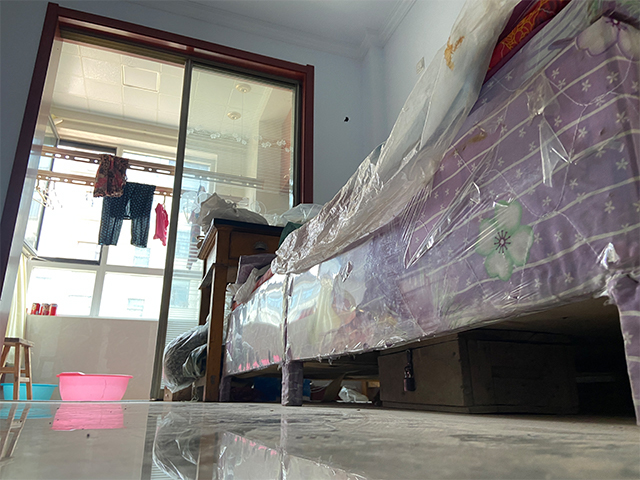bed: (219, 1, 640, 427)
stool: (1, 337, 34, 400)
table: (196, 217, 285, 403)
